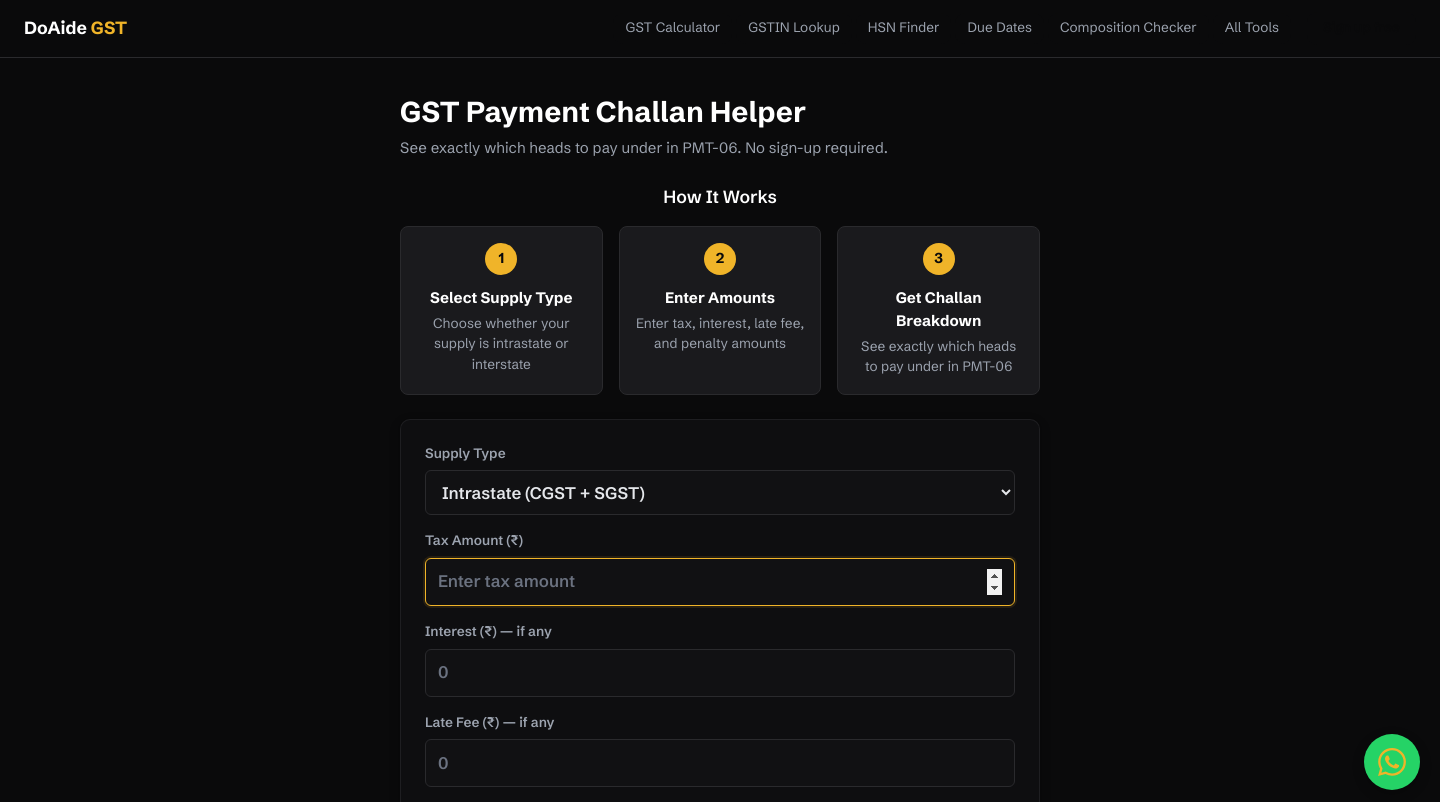
Test: PaymentChallanPage › shows IGST for interstate
Select "Interstate (IGST)" in the dropdown showing "Intrastate (CGST + SGST)" at (720, 493), box [425,470,1015,515]
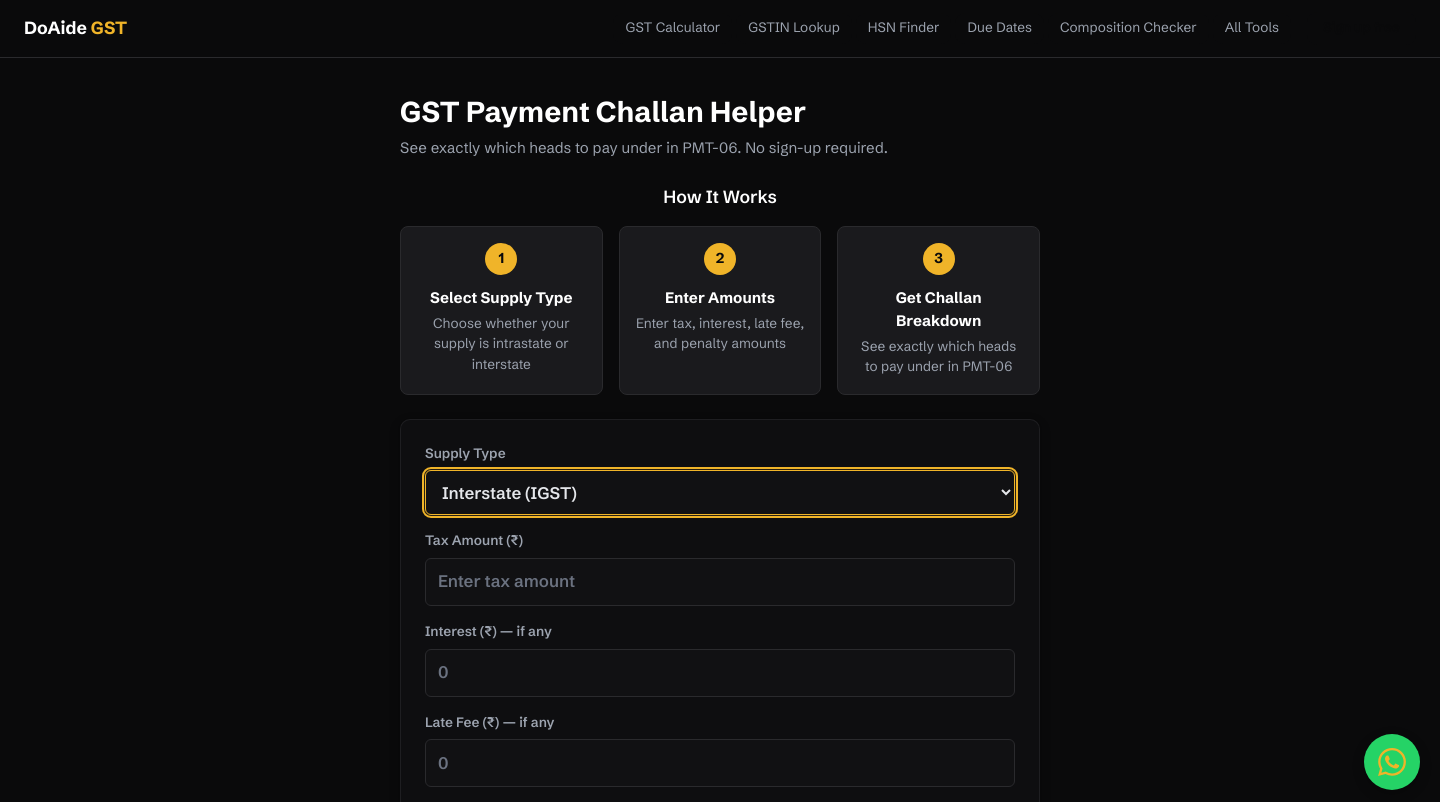
Type "10000" into the number field with placeholder "Enter tax amount" at (720, 582), box [425,558,1015,606]
(page scrolled)
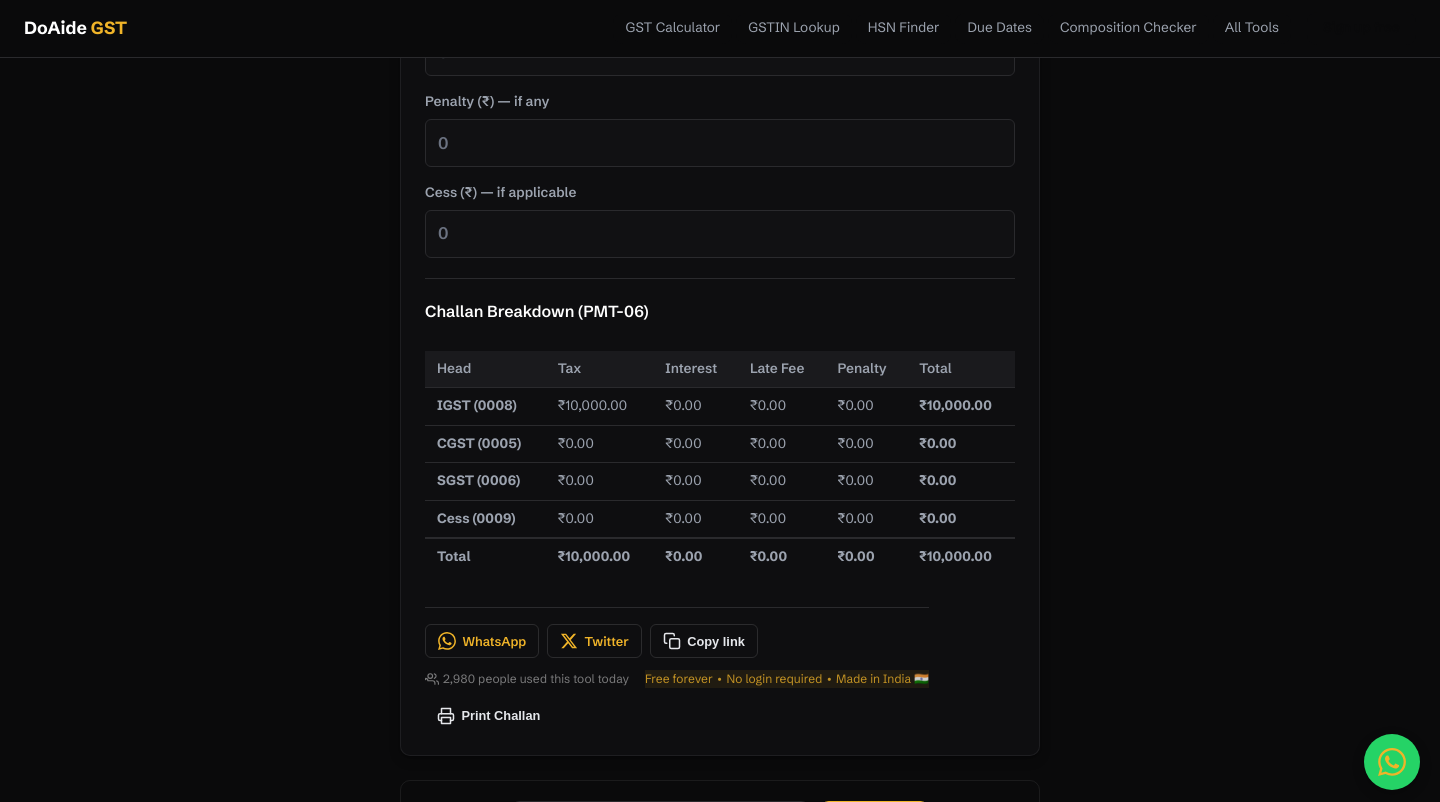
Now the 1st text "₹10,000.00" is shown, box [546,388,653,425]
Now the text "IGST (0008)" is shown, box [437,397,517,414]
